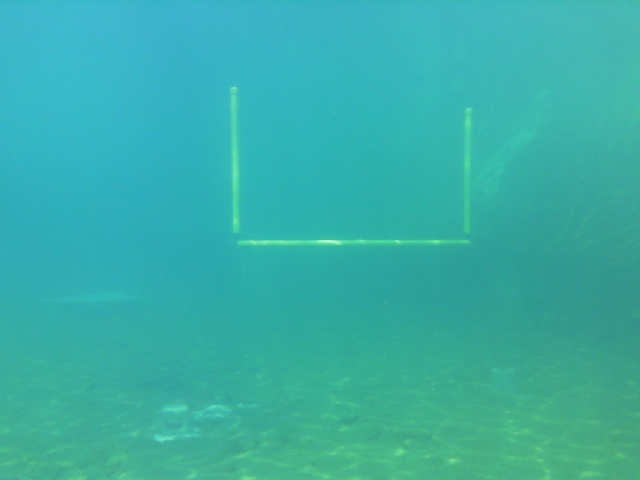channel: (226, 82, 483, 253)
